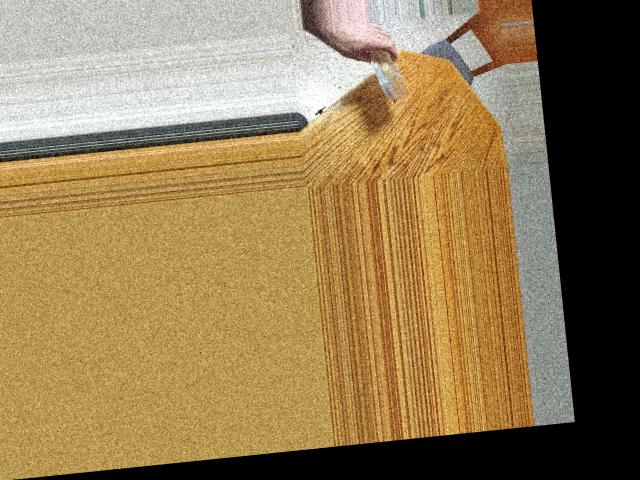cheese: (366, 46, 411, 95)
